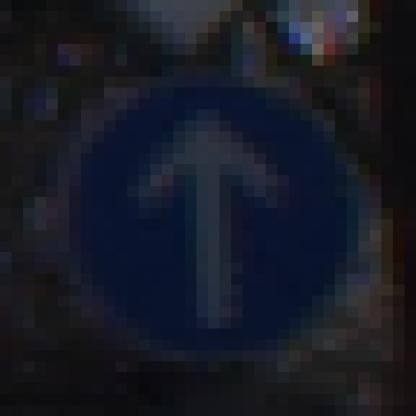AheadOnly: (59, 56, 359, 362)
